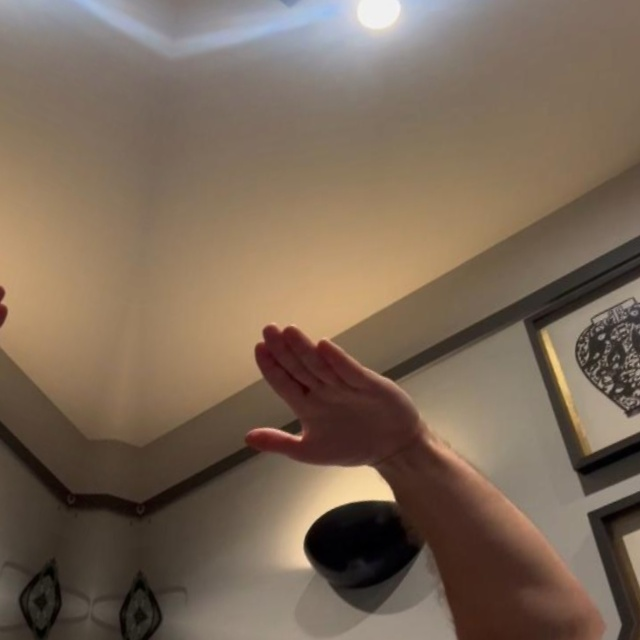Paper: (219, 275, 450, 508)
